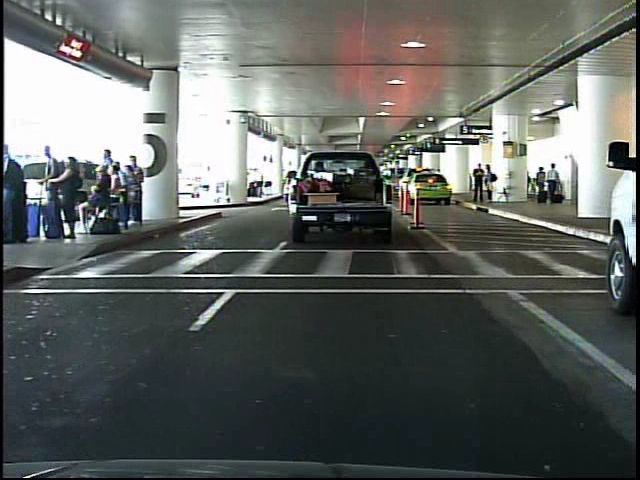person: (481, 163, 497, 205), (471, 159, 485, 206)
